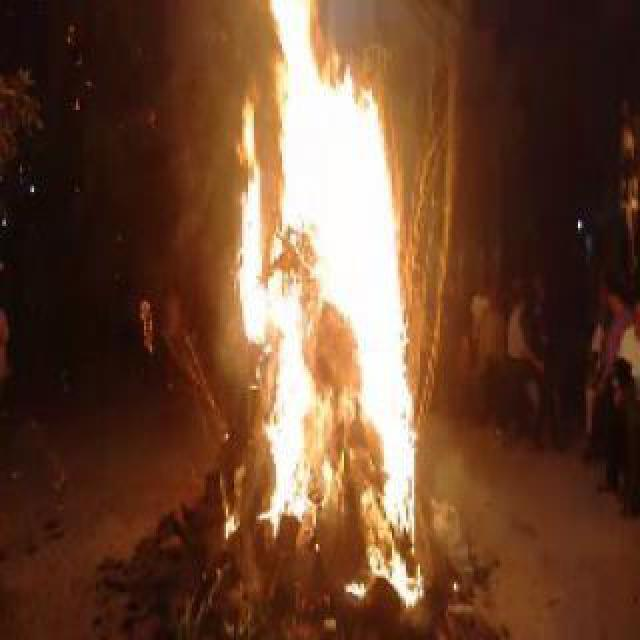Fire: (229, 1, 444, 598)
